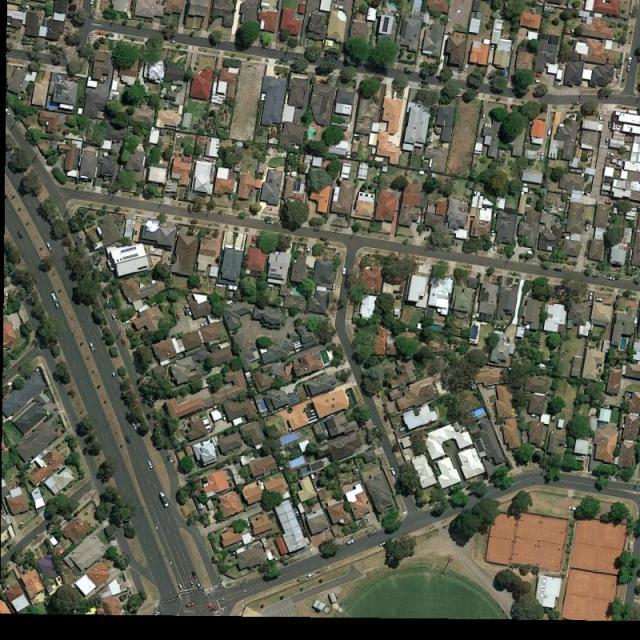vehicle: (160, 490, 170, 507), (51, 293, 58, 302), (89, 341, 95, 351), (123, 318, 131, 325), (148, 460, 154, 469), (167, 454, 173, 463), (368, 530, 377, 536), (588, 292, 594, 301), (111, 314, 117, 322), (178, 583, 184, 591), (346, 539, 354, 545), (121, 337, 126, 346), (190, 579, 195, 588), (251, 235, 256, 244), (306, 246, 311, 255), (569, 506, 578, 511), (607, 276, 616, 281), (540, 152, 545, 161), (279, 57, 288, 62), (572, 101, 581, 106), (196, 582, 202, 589), (87, 35, 92, 43), (57, 74, 62, 82), (46, 242, 51, 250), (132, 422, 137, 430), (186, 602, 194, 607), (210, 606, 218, 611), (391, 467, 396, 475), (266, 220, 274, 225), (628, 57, 633, 65), (6, 107, 10, 116), (112, 370, 116, 379), (126, 435, 130, 444), (605, 136, 609, 145), (547, 126, 551, 135), (206, 603, 213, 608), (534, 73, 541, 78), (586, 223, 590, 231), (607, 152, 615, 156), (608, 121, 612, 129), (627, 65, 631, 73), (464, 63, 468, 71), (293, 55, 301, 59), (308, 573, 315, 577), (379, 542, 386, 546), (342, 268, 346, 275), (597, 298, 604, 302), (169, 39, 176, 43), (599, 114, 602, 123), (97, 31, 103, 35), (5, 292, 9, 298), (90, 1, 94, 5)
